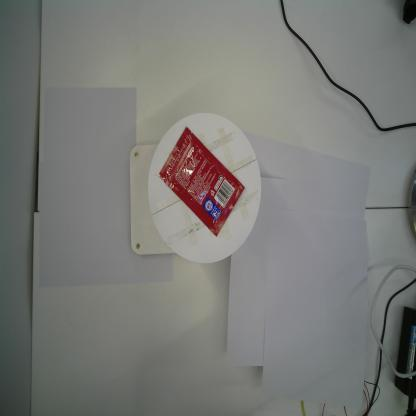Seasoner: (155, 125, 246, 238)
